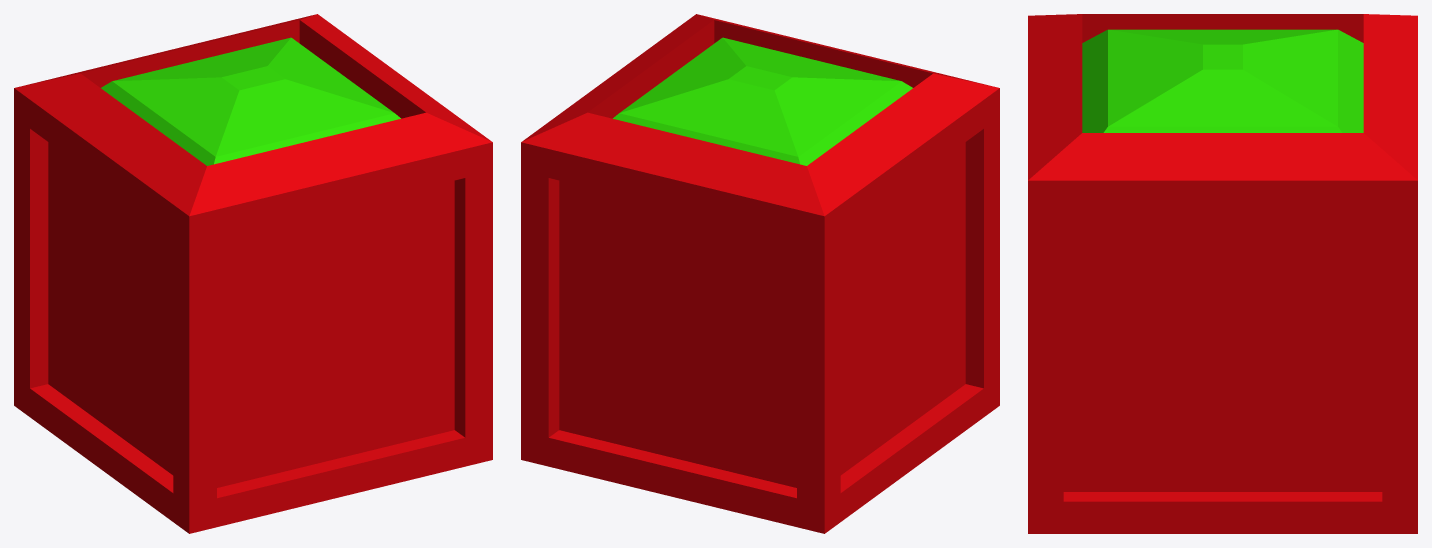
File: CubePlanter.fbx
3 renders of one model, left to right at view 1: azimuth 30°, elevation 25°; view 2: azimuth 150°, elevation 25°; view 3: azimuth 270°, elevation 25°, orthographic. The views are drawn at different scales.
Parts seen in each view (by area): view 1: Cube; view 2: Cube; view 3: Cube.
Boxes of the visible parts, x1,y1,x2,y2 form: Cube: (14, 14, 492, 533); Cube: (521, 14, 999, 533); Cube: (1028, 14, 1417, 533).
Size of the model in its own units: 200 by 223 by 200.
